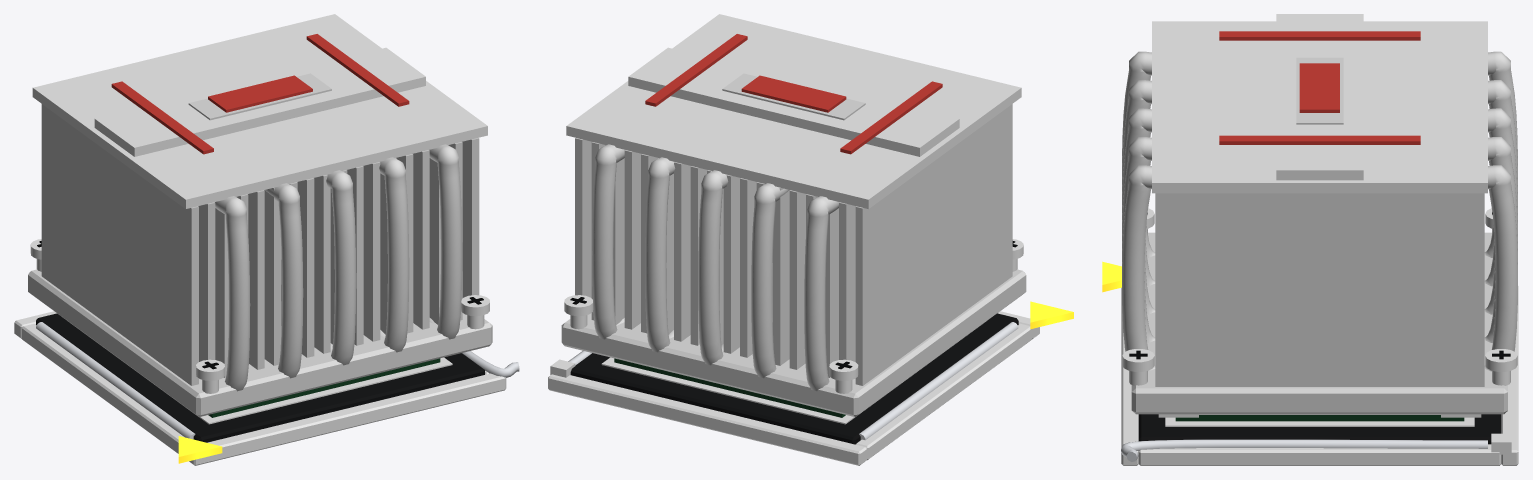
The model's file is hwm_cpu_tr_pro_7985wx.glb.
3 views of the same model, side by side, from view 1: azimuth 30°, elevation 25°; view 2: azimuth 150°, elevation 25°; view 3: azimuth 270°, elevation 25° (orthographic). The views are drawn at different scales.
Visible parts, largest first — view 1: Cooler, Socket, CPU, Screw_3, Screw_1, Lever; view 2: Cooler, Socket, CPU, Screw_0, Screw_2; view 3: Cooler, Socket, Lever, CPU, Screw_2, Screw_3, Frame.
Part boxes in pixels (x1,y1,x2,y2): Cooler: [28, 14, 492, 416]; Socket: [14, 311, 506, 465]; CPU: [208, 358, 440, 417]; Screw_3: [461, 295, 489, 329]; Screw_1: [196, 359, 224, 393]; Lever: [462, 351, 519, 377]; Cooler: [561, 14, 1026, 416]; Socket: [548, 301, 1073, 465]; CPU: [614, 358, 845, 417]; Screw_0: [829, 359, 858, 393]; Screw_2: [564, 295, 593, 329]; Cooler: [1122, 14, 1517, 414]; Socket: [1102, 261, 1518, 465]; Lever: [1121, 439, 1487, 461]; CPU: [1175, 415, 1464, 421]; Screw_2: [1485, 349, 1517, 385]; Screw_3: [1122, 349, 1154, 385]; Frame: [1158, 414, 1481, 417].
Size of the model in its own units: 0.1338 by 0.0974 by 0.1239.
